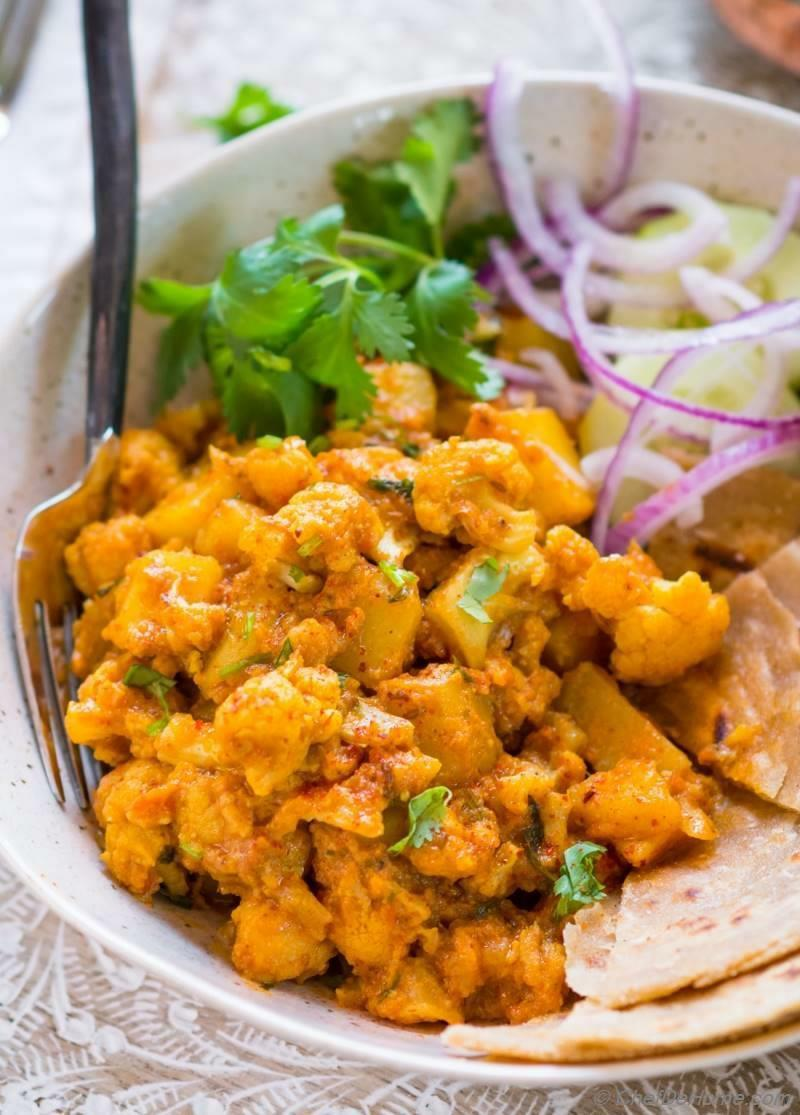AlooGobi: (56, 360, 723, 1030)
